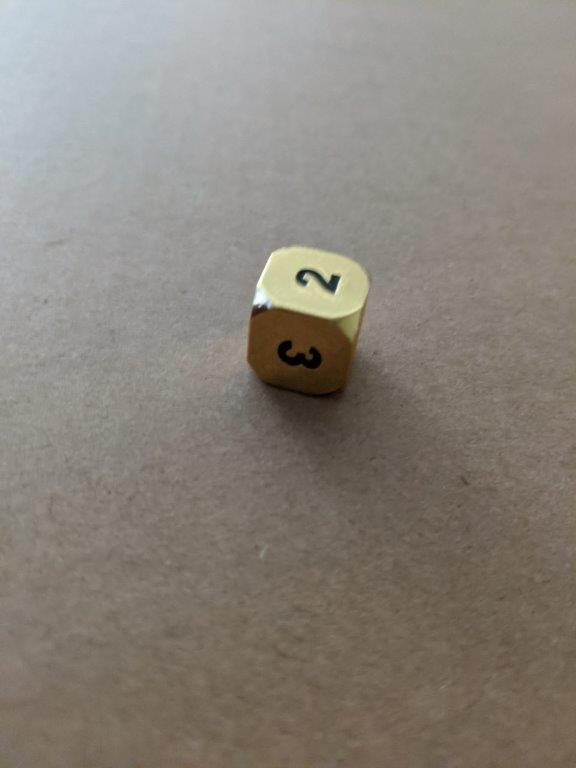d6-2: (244, 244, 370, 401)
